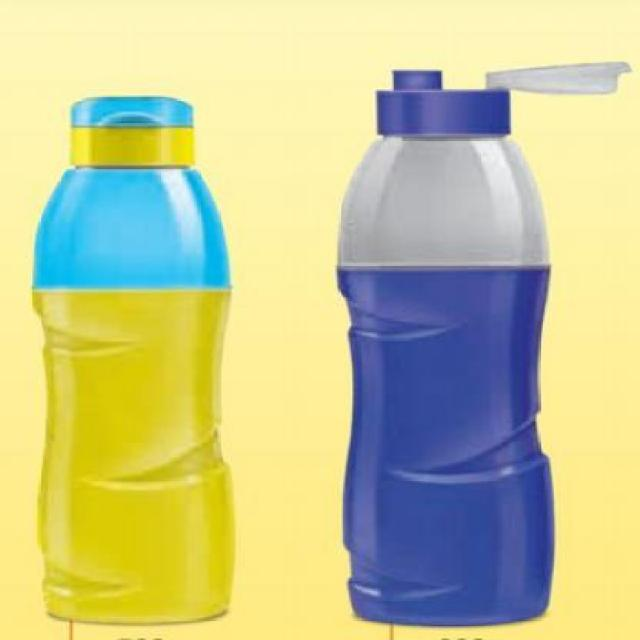Drinking: (327, 49, 573, 633)
